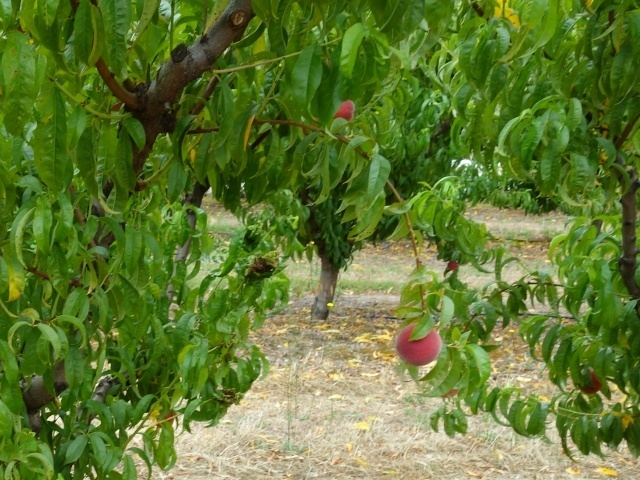peach: (393, 318, 444, 371), (576, 367, 606, 396), (331, 93, 359, 124), (152, 406, 178, 428)
